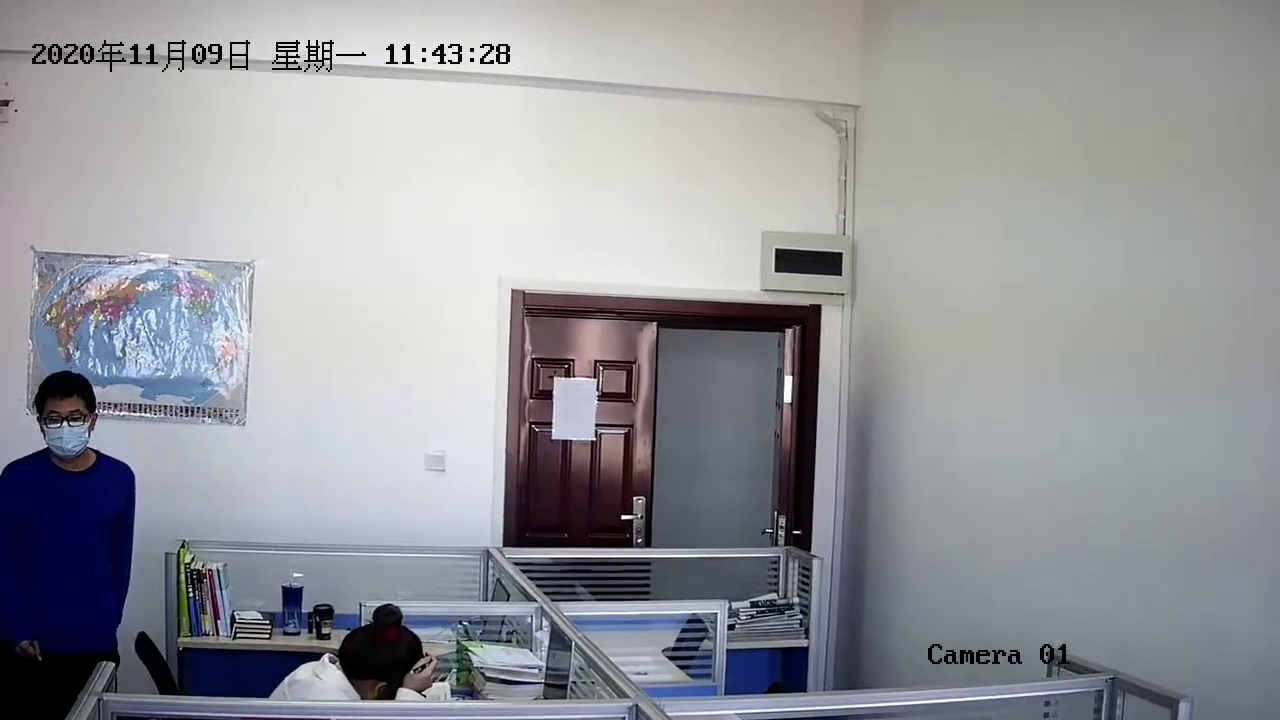mask: (30, 377, 95, 459)
